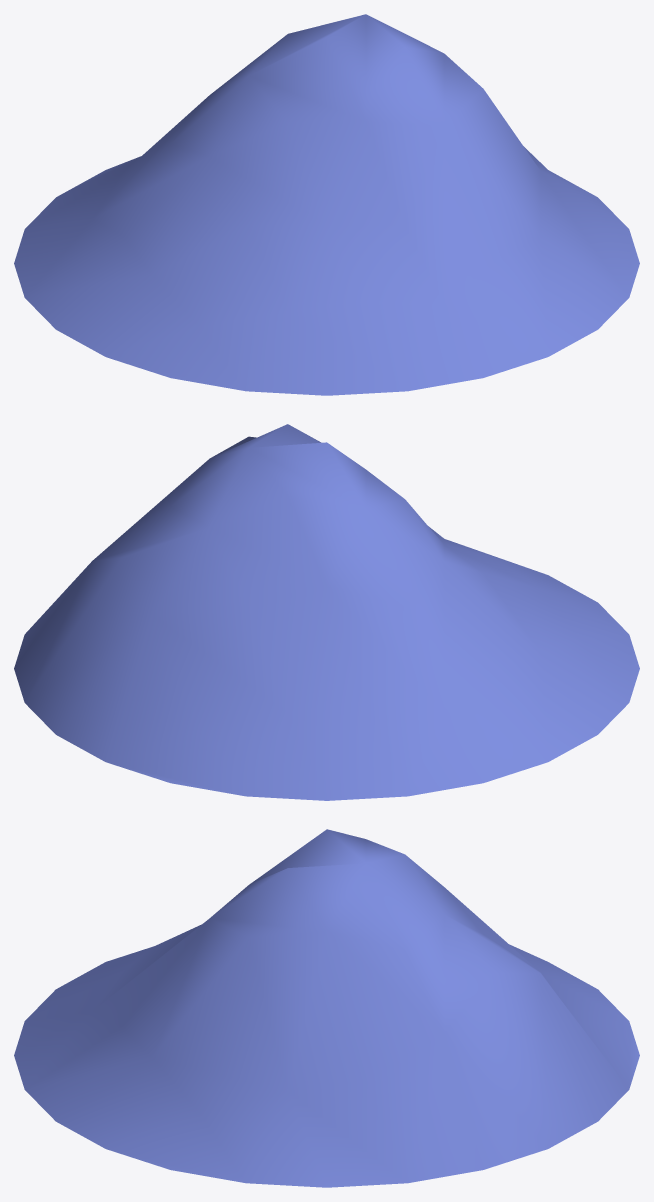
File: pilaDeRopa01.fbx
The picture shows the model from 3 angles, top to bottom: view 1: azimuth 30°, elevation 25°; view 2: azimuth 150°, elevation 25°; view 3: azimuth 270°, elevation 25°; orthographic projection.
Parts seen in each view (by area): view 1: pilaDeRopa01; view 2: pilaDeRopa01; view 3: pilaDeRopa01.
Boxes of the visible parts, x1=… form: pilaDeRopa01: x1=14, y1=14, x2=639, y2=395; pilaDeRopa01: x1=14, y1=424, x2=639, y2=800; pilaDeRopa01: x1=14, y1=829, x2=639, y2=1187.
Bounding box in the file's own units: 1.47 × 0.5853 × 1.47.
